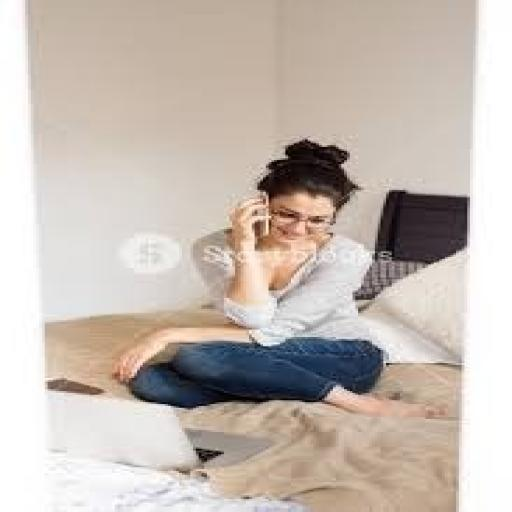calling: (109, 138, 448, 421)
